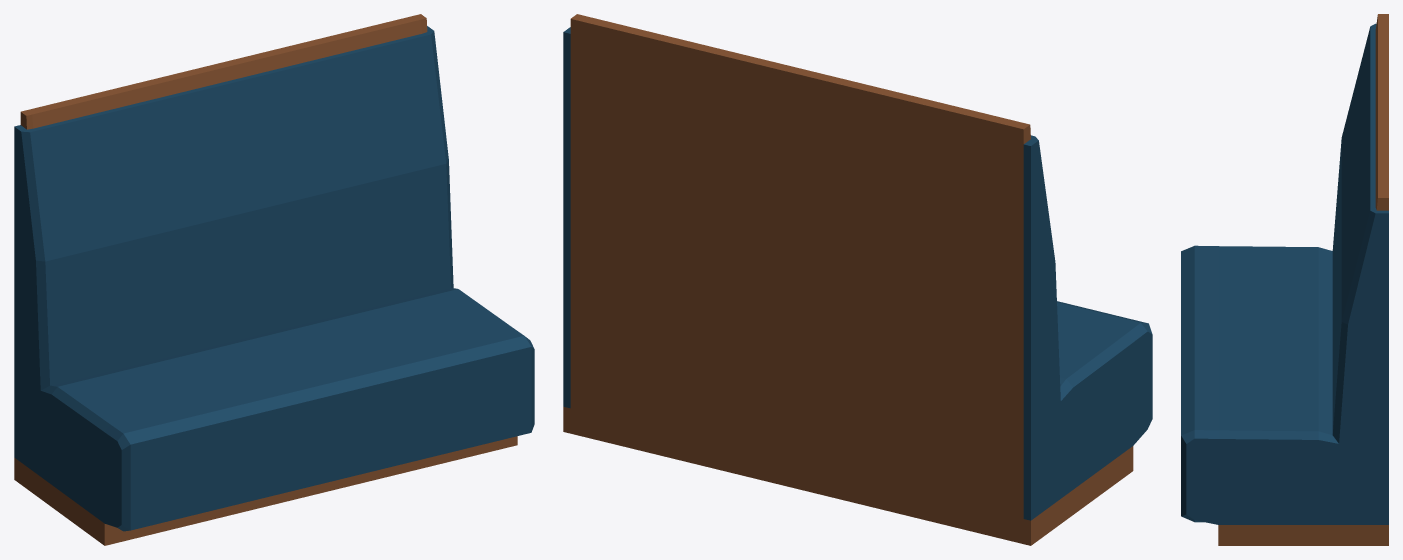
File: booth_seat1.fbx
The picture shows the model from 3 angles, left to right: view 1: azimuth 30°, elevation 25°; view 2: azimuth 150°, elevation 25°; view 3: azimuth 270°, elevation 25°; orthographic projection. The views are drawn at different scales.
Parts seen in each view (by area): view 1: Cube.002; view 2: Cube.002; view 3: Cube.002.
Part boxes in pixels (box(x1,y1,x2,y2)): Cube.002: box(14, 14, 534, 545); Cube.002: box(563, 14, 1152, 545); Cube.002: box(1181, 14, 1388, 545).
Size of the model in its own units: 462 by 392 by 214.
